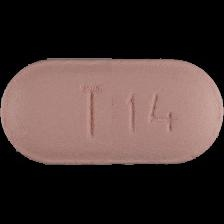0093-7314: (0, 0, 224, 224)
